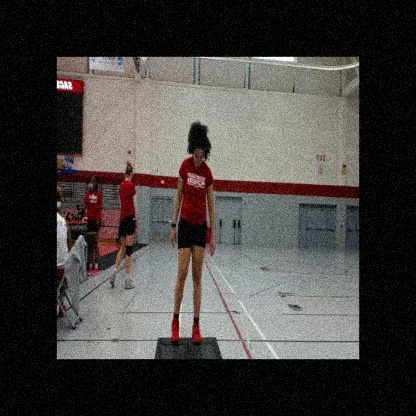lateral_flexion_normal: (168, 118, 218, 347)
stance_width_narrow: (169, 155, 217, 347)
